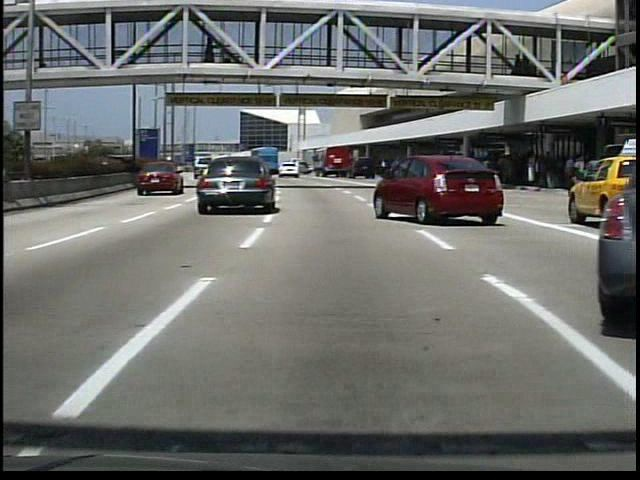person: (205, 36, 220, 64)
